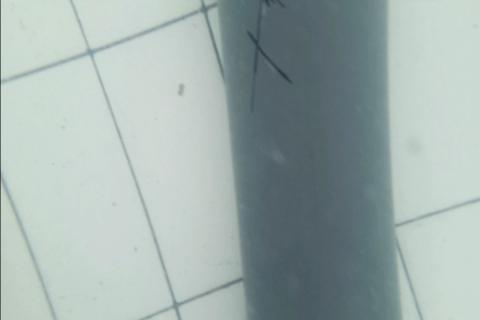keretakan: (245, 0, 290, 113)
